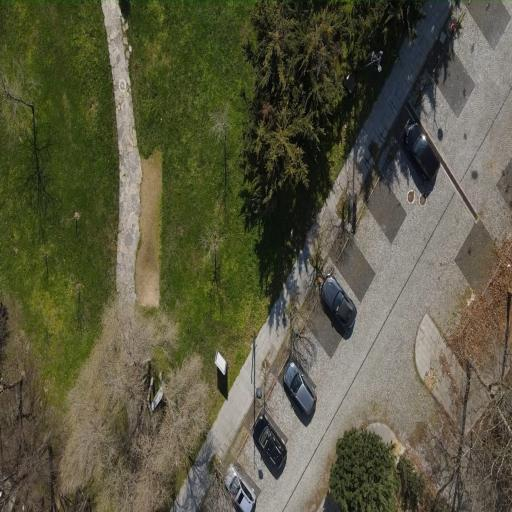car: (405, 122, 440, 182), (319, 273, 356, 329), (253, 414, 286, 468), (284, 360, 316, 413), (225, 463, 255, 511)
